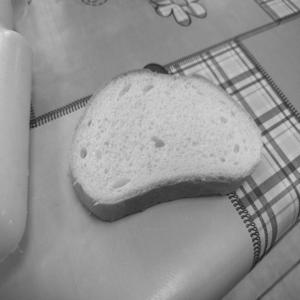bread: (64, 64, 267, 228)
